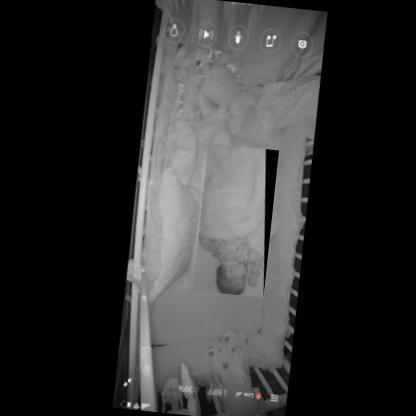baby: (198, 235, 264, 295)
